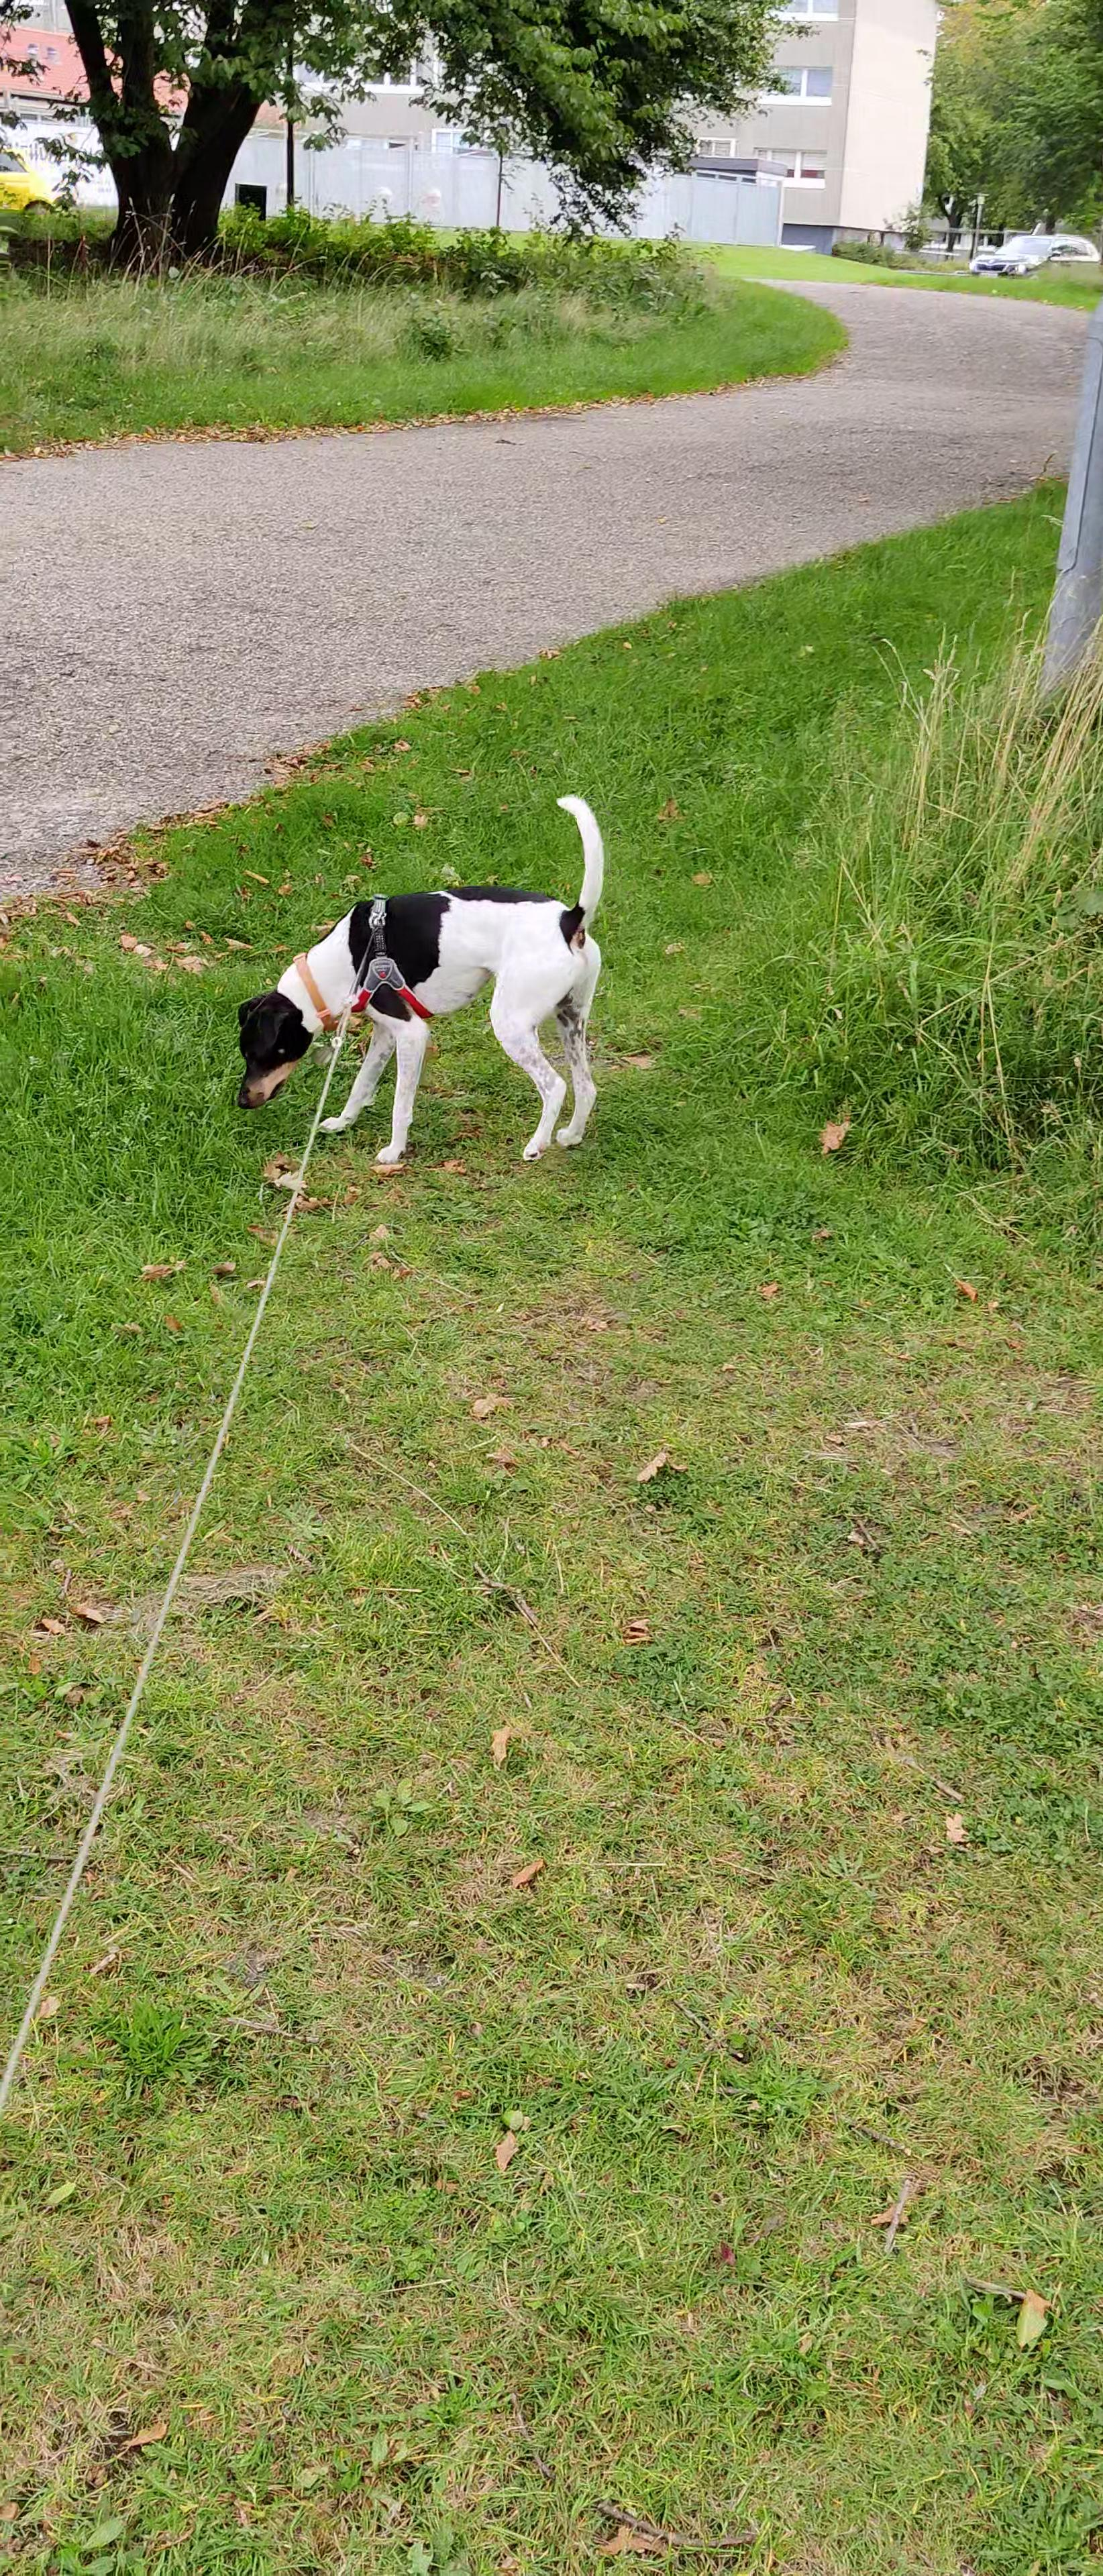Dog: (230, 789, 607, 1163)
